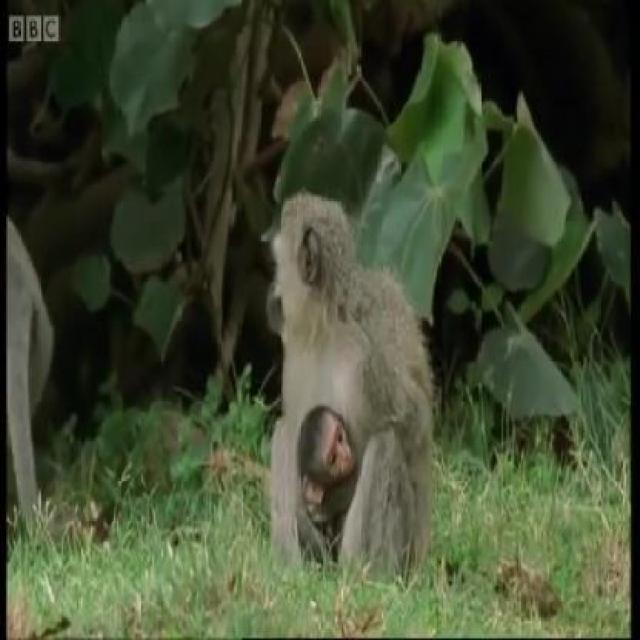Monkey: (236, 185, 470, 606), (279, 394, 367, 552)
